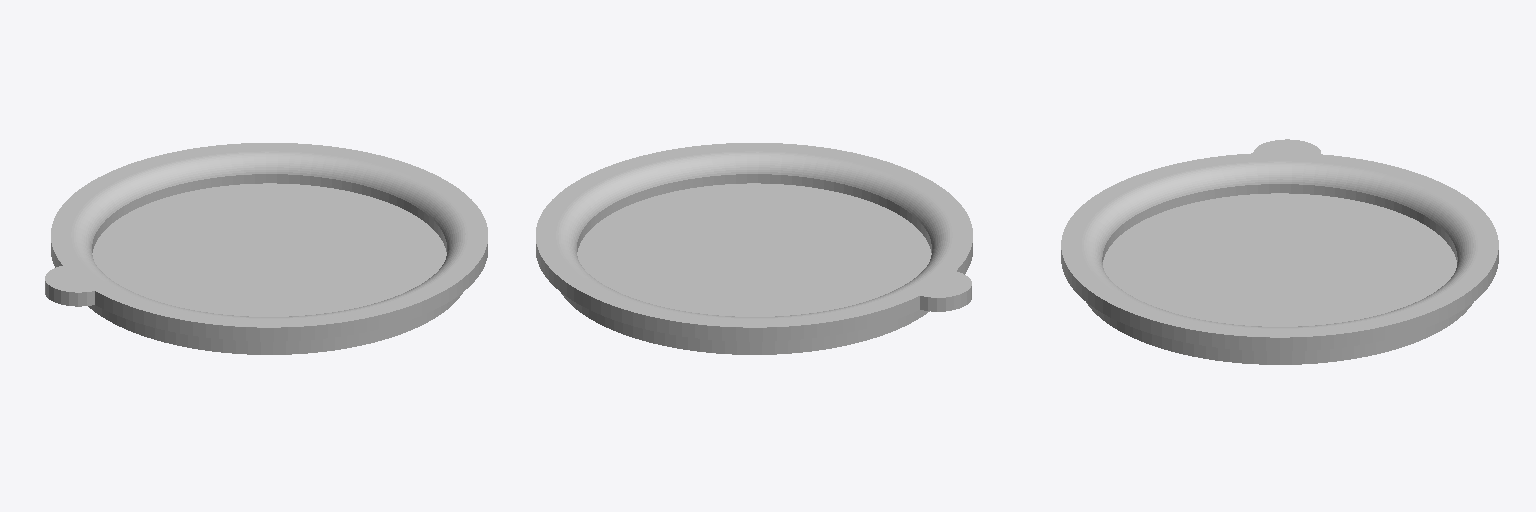
The model's file is original-6.obj.
3 views of the same model, side by side, from view 1: azimuth 30°, elevation 25°; view 2: azimuth 150°, elevation 25°; view 3: azimuth 270°, elevation 25° (orthographic).
Visible parts, largest first — view 1: Union1/mesh32/mesh32-geometry#mesh32-geometry; view 2: Union1/mesh32/mesh32-geometry#mesh32-geometry; view 3: Union1/mesh32/mesh32-geometry#mesh32-geometry.
Part boxes in pixels (left/top/right/bottom): Union1/mesh32/mesh32-geometry#mesh32-geometry: left=45, top=143, right=487, bottom=354; Union1/mesh32/mesh32-geometry#mesh32-geometry: left=536, top=143, right=972, bottom=354; Union1/mesh32/mesh32-geometry#mesh32-geometry: left=1061, top=139, right=1498, bottom=364.
Size of the model in its own units: 1.12 by 0.0922 by 1.04.